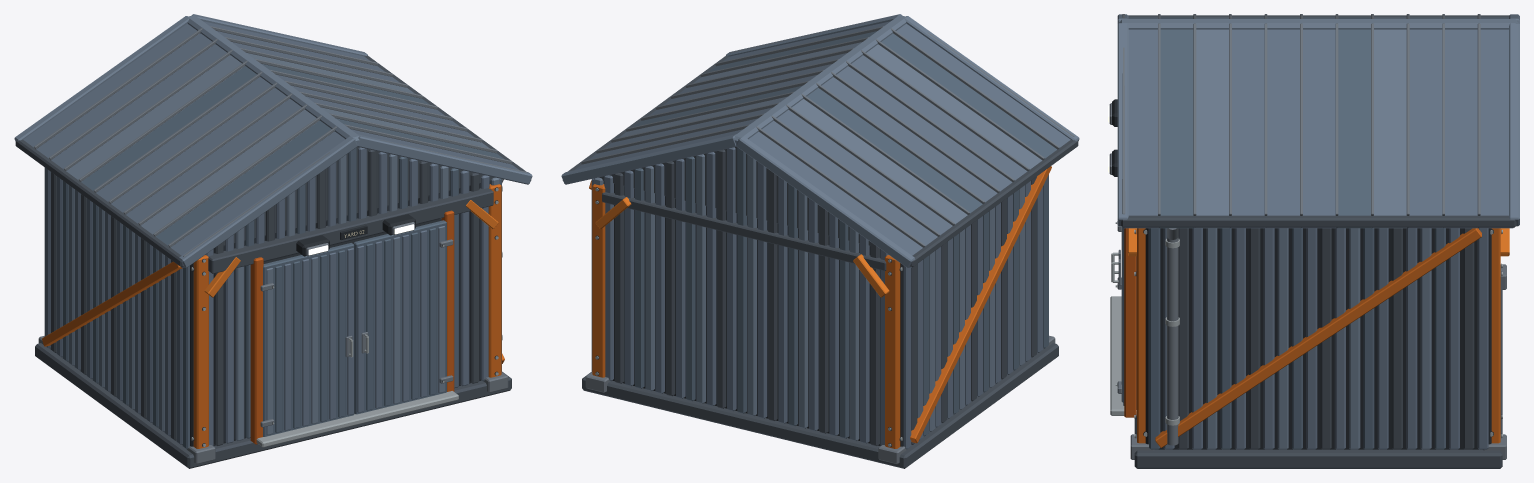
Rendered from wsc-prop-054-yard-shed.glb.
3 views of the same model, side by side, from view 1: azimuth 30°, elevation 25°; view 2: azimuth 150°, elevation 25°; view 3: azimuth 270°, elevation 25° (orthographic). The views are drawn at different scales.
Visible parts, largest first — view 1: blue, blue2, blue3, gray, steel, orange4, orange2, deep, bright, orange; view 2: blue, gray, blue3, blue2, steel, orange4, deep, orange; view 3: blue, blue3, gray, blue2, deep, steel, orange4, orange2, bright, orange.
Boxes of the visible parts, left/top/right/bottom form: blue: left=23, top=21, right=519, bottom=445; blue2: left=62, top=63, right=504, bottom=449; blue3: left=14, top=14, right=532, bottom=440; gray: left=15, top=55, right=531, bottom=468; steel: left=34, top=26, right=527, bottom=464; orange4: left=42, top=184, right=504, bottom=448; orange2: left=250, top=210, right=454, bottom=444; deep: left=190, top=181, right=497, bottom=446; bright: left=191, top=186, right=502, bottom=447; orange: left=204, top=200, right=498, bottom=297; blue: left=574, top=21, right=1070, bottom=449; gray: left=562, top=55, right=1078, bottom=468; blue3: left=561, top=14, right=1079, bottom=440; blue2: left=634, top=31, right=1056, bottom=438; steel: left=581, top=20, right=1074, bottom=464; orange4: left=589, top=166, right=1051, bottom=448; deep: left=596, top=181, right=903, bottom=446; orange: left=595, top=197, right=889, bottom=297; blue: left=1124, top=17, right=1513, bottom=449; blue3: left=1117, top=14, right=1519, bottom=449; gray: left=1121, top=15, right=1516, bottom=468; blue2: left=1123, top=17, right=1445, bottom=449; deep: left=1112, top=99, right=1501, bottom=449; steel: left=1109, top=14, right=1506, bottom=459; orange4: left=1137, top=228, right=1500, bottom=447; orange2: left=1124, top=228, right=1136, bottom=417; bright: left=1110, top=222, right=1502, bottom=437; orange: left=1128, top=228, right=1509, bottom=256.
Size of the model in its own units: 4.57 by 3.7 by 3.89.
